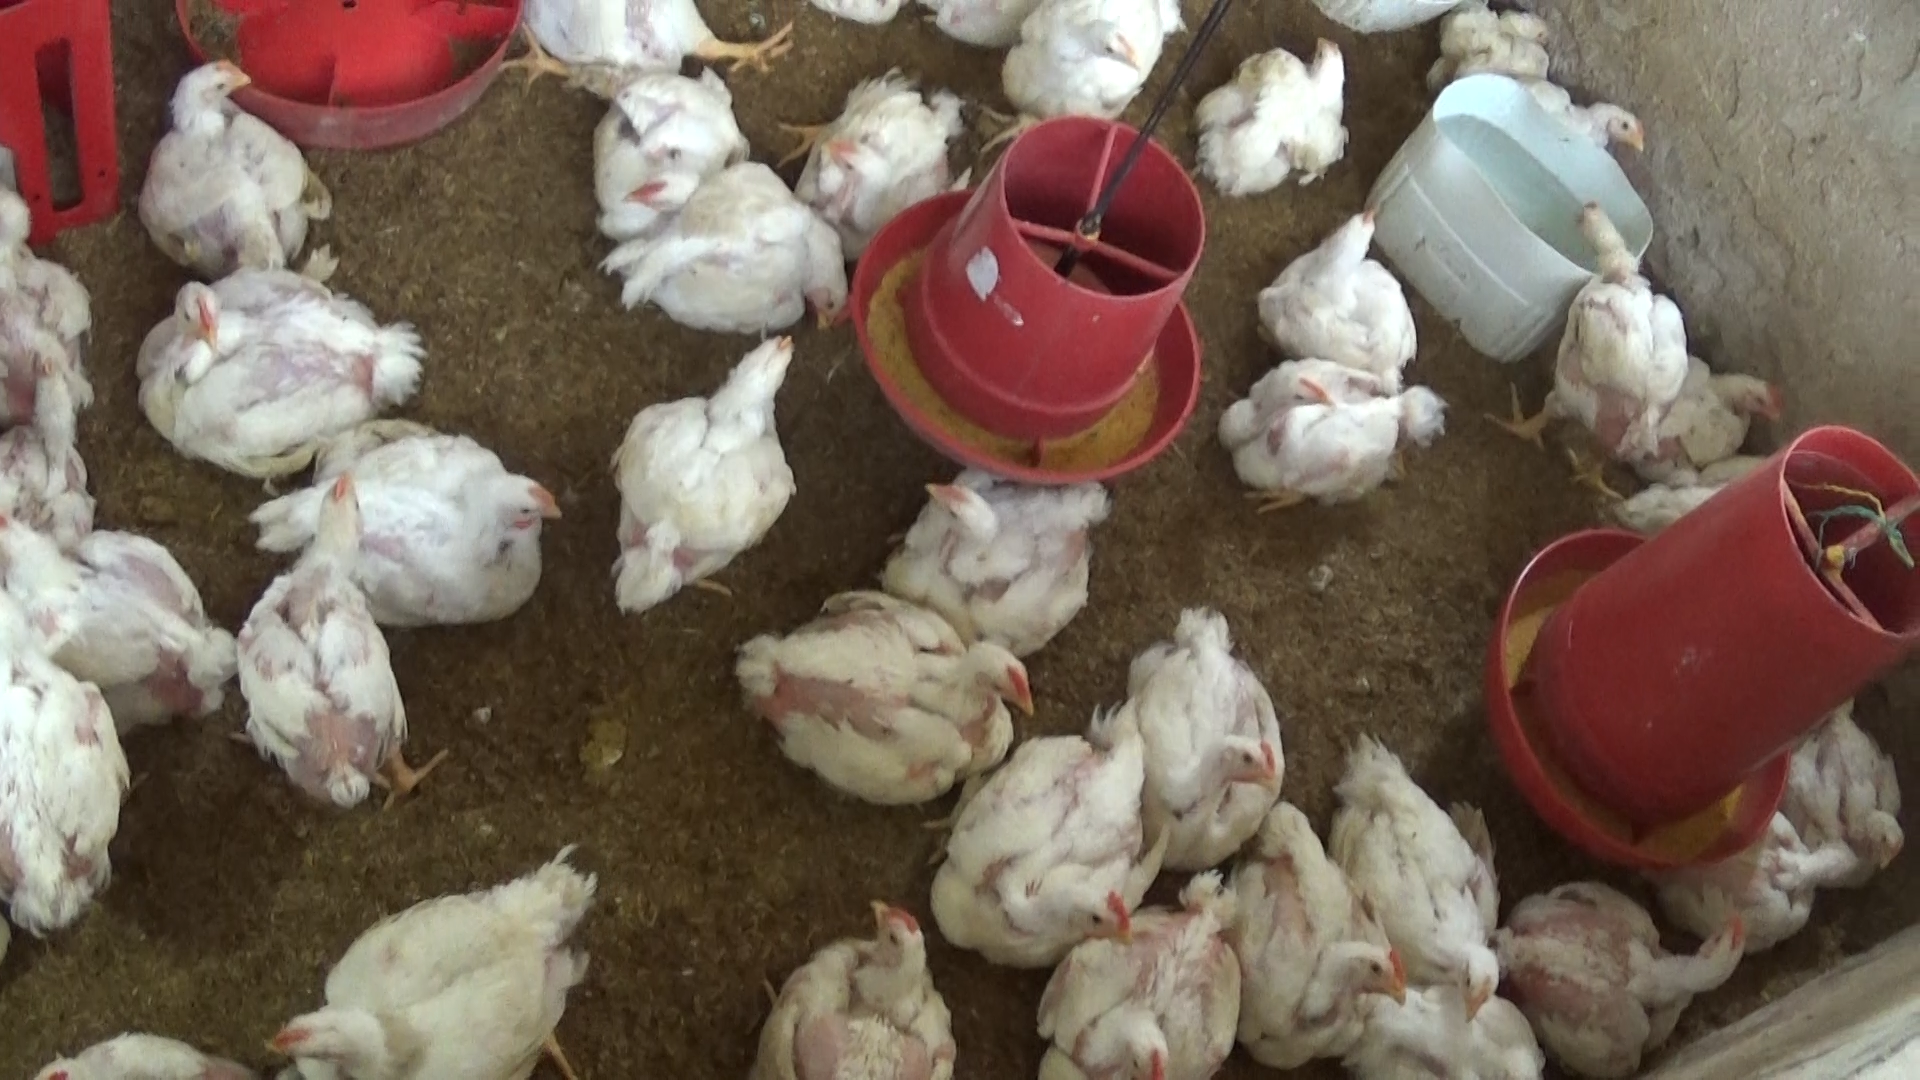Pollos: (281, 829, 615, 1080), (732, 589, 1044, 812), (245, 465, 435, 807), (3, 487, 255, 735), (262, 436, 566, 640), (922, 721, 1178, 961), (603, 332, 816, 607), (1332, 721, 1513, 1029), (0, 642, 177, 953), (157, 266, 429, 448), (1506, 862, 1760, 1056), (1230, 794, 1404, 1072), (1017, 872, 1246, 1080), (732, 884, 972, 1080), (884, 447, 1117, 649), (125, 53, 336, 268), (596, 169, 852, 336), (1205, 361, 1451, 533), (1133, 599, 1294, 857), (1250, 204, 1416, 422), (796, 62, 971, 255), (1557, 187, 1676, 456), (981, 0, 1187, 153), (582, 67, 754, 239), (1200, 32, 1360, 196), (1785, 692, 1917, 882), (1691, 800, 1850, 957), (1629, 336, 1797, 447), (1531, 69, 1658, 156)
